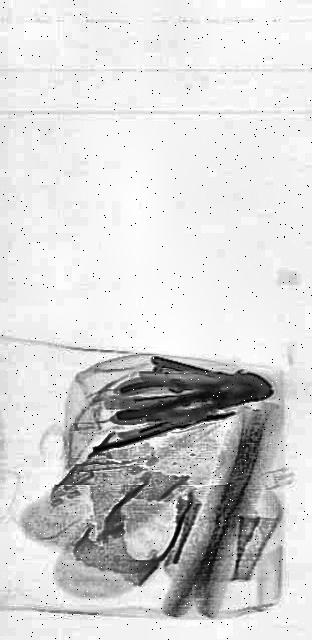Pliers: (149, 354, 273, 424), (115, 369, 255, 421)
